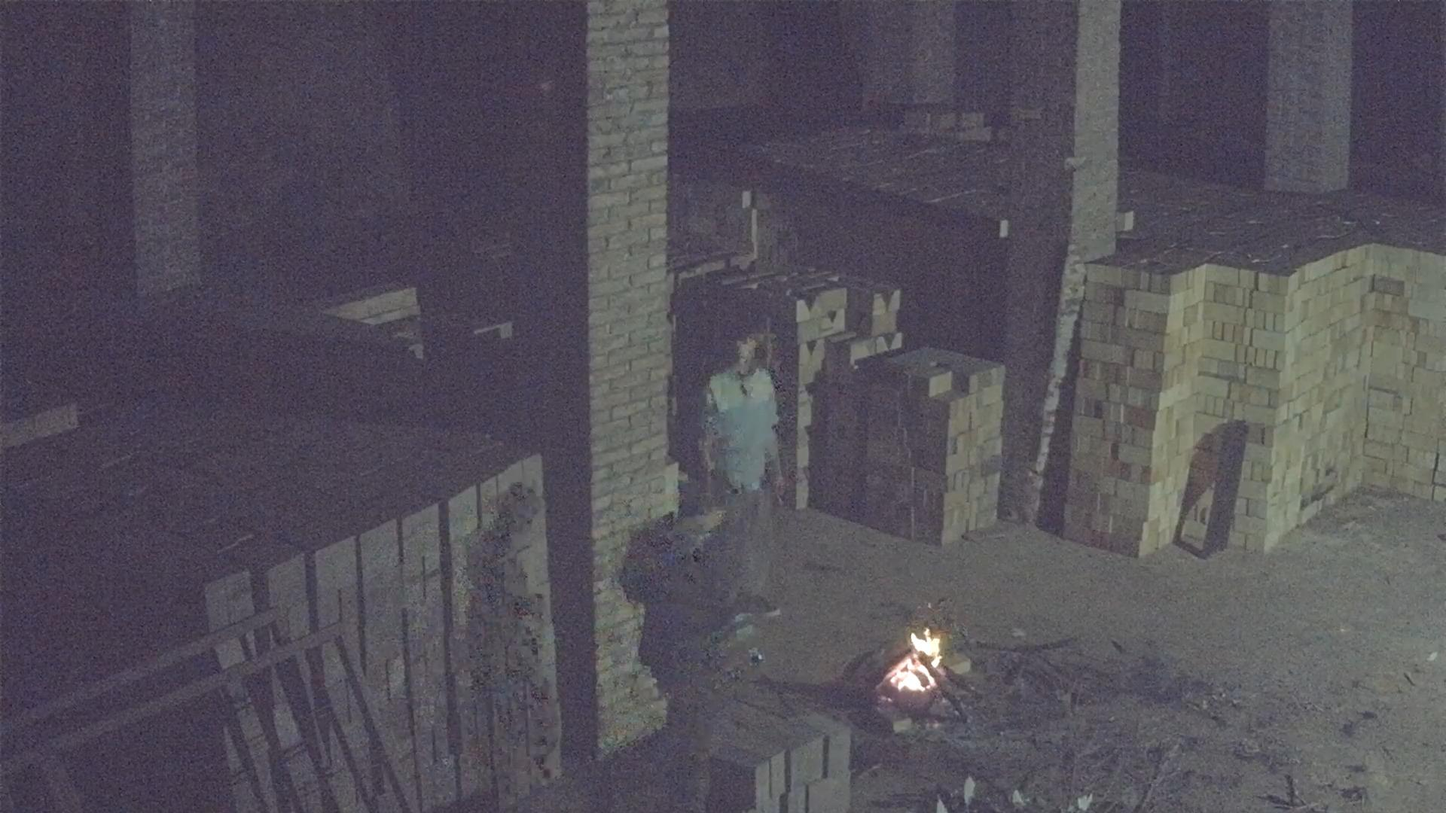fire: (876, 629, 941, 710)
